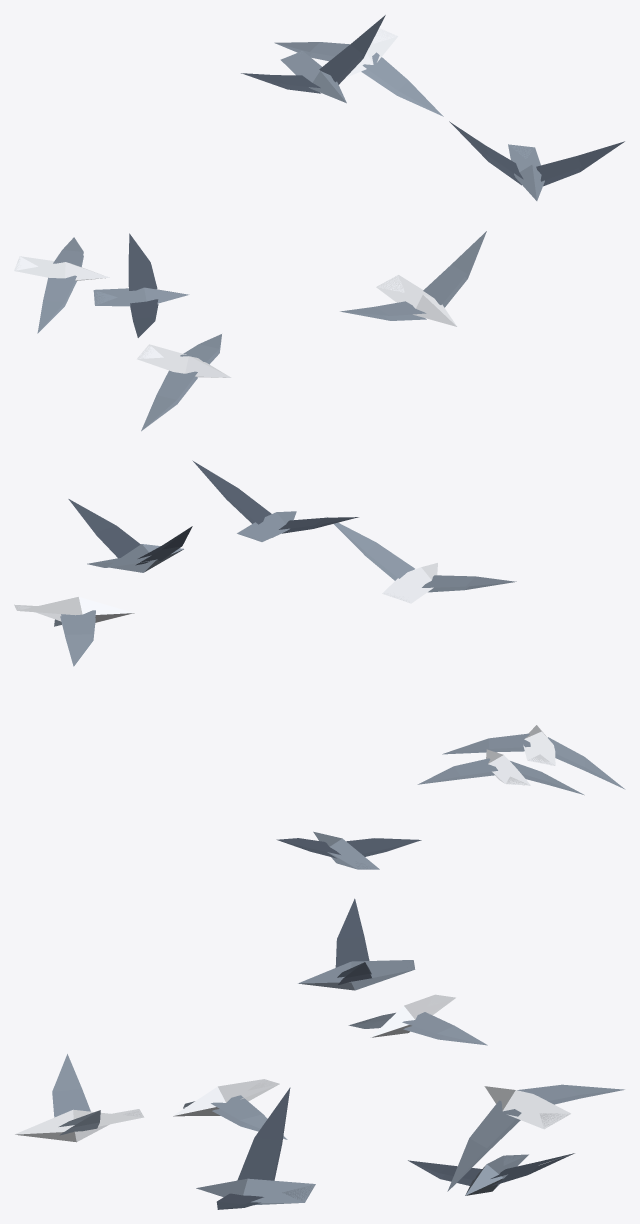
File: fx_nature_flock_birds.glb
3 renders of one model, top to bottom at view 1: azimuth 30°, elevation 25°; view 2: azimuth 150°, elevation 25°; view 3: azimuth 270°, elevation 25°, orthographic. The views are drawn at different scales.
Visible parts, largest first — view 1: fx_nature_flock_birds_gull_grey, fx_nature_flock_birds_dove_dark, fx_nature_flock_birds_gull_white, fx_nature_flock_birds_dove_grey; view 2: fx_nature_flock_birds_gull_grey, fx_nature_flock_birds_dove_dark, fx_nature_flock_birds_gull_white, fx_nature_flock_birds_dove_grey; view 3: fx_nature_flock_birds_gull_grey, fx_nature_flock_birds_gull_white, fx_nature_flock_birds_dove_dark, fx_nature_flock_birds_dove_grey.
Part boxes in pixels (bbox=[...]): fx_nature_flock_birds_gull_grey: bbox=[37, 42, 486, 431]; fx_nature_flock_birds_dove_dark: bbox=[128, 15, 624, 337]; fx_nature_flock_birds_gull_white: bbox=[14, 25, 456, 377]; fx_nature_flock_birds_dove_grey: bbox=[93, 51, 544, 306]; fx_nature_flock_birds_gull_grey: bbox=[54, 517, 625, 795]; fx_nature_flock_birds_dove_dark: bbox=[68, 460, 421, 858]; fx_nature_flock_birds_gull_white: bbox=[14, 563, 555, 785]; fx_nature_flock_birds_dove_grey: bbox=[87, 511, 379, 869]; fx_nature_flock_birds_gull_grey: bbox=[52, 1012, 624, 1191]; fx_nature_flock_birds_gull_white: bbox=[14, 994, 570, 1142]; fx_nature_flock_birds_dove_dark: bbox=[216, 898, 574, 1209]; fx_nature_flock_birds_dove_grey: bbox=[196, 960, 528, 1205].
Size of the model in its own units: 1.41 by 0.7232 by 1.19.
